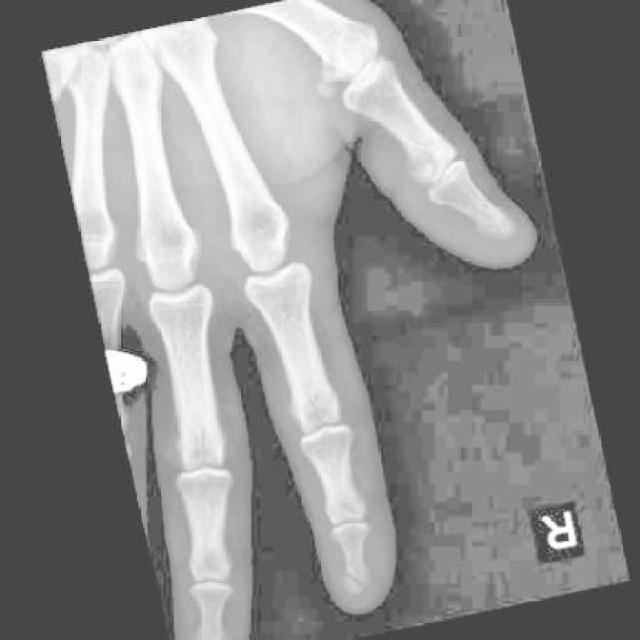Fracture: (337, 558, 377, 600)
